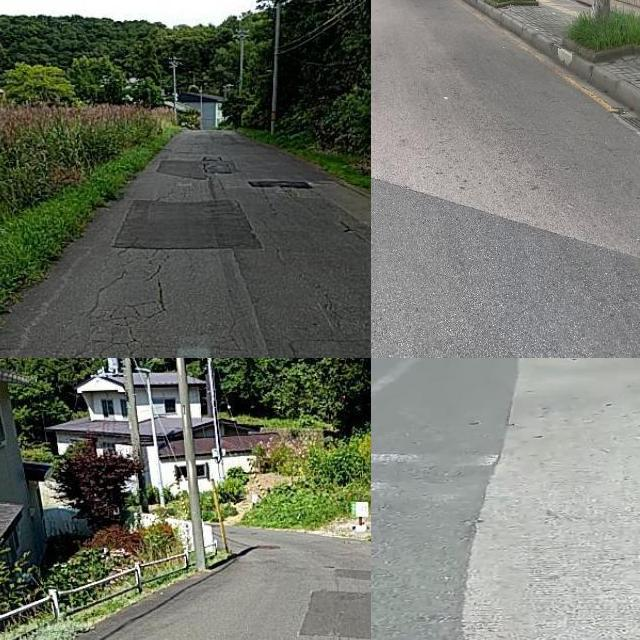Sambungan: (463, 358, 640, 640), (371, 178, 640, 358), (111, 196, 256, 246), (293, 586, 371, 640), (154, 156, 208, 180)
